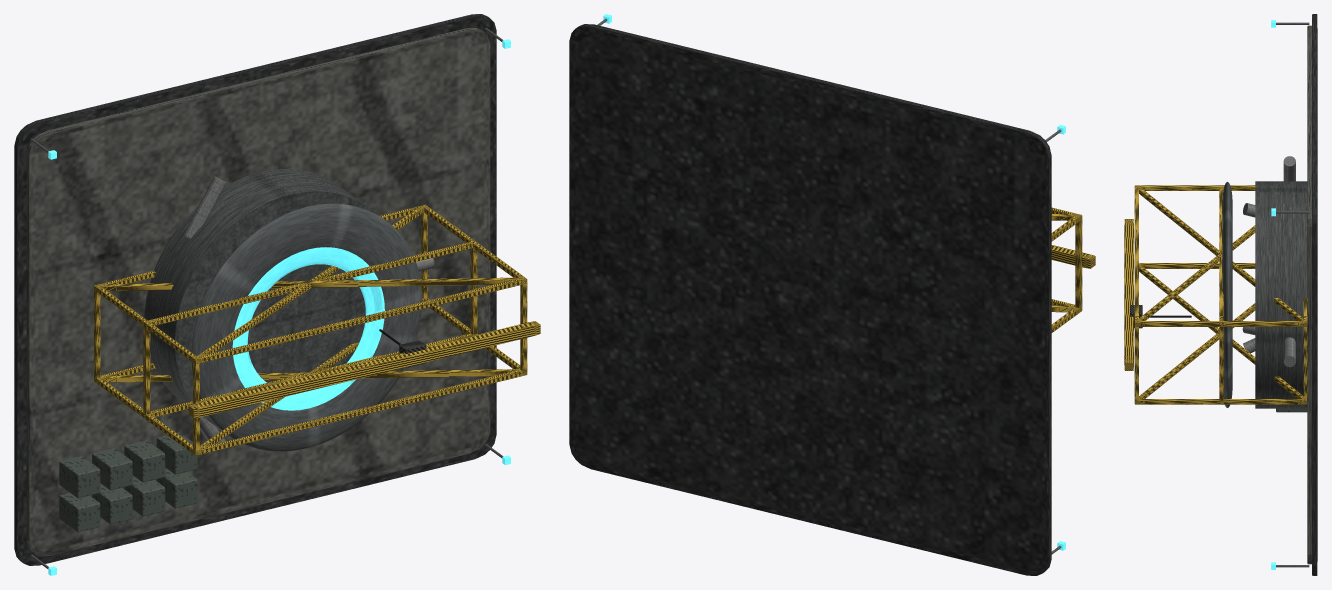
The model's file is b-04-fusion-plant-lod0.glb.
The picture shows the model from 3 angles, left to right: view 1: azimuth 30°, elevation 25°; view 2: azimuth 150°, elevation 25°; view 3: azimuth 270°, elevation 25°; orthographic projection. The views are drawn at different scales.
Visible parts, largest first — view 1: foundation_inner_pad, core_reactor_base, core_reactor_ring_outer, foundation, core_reactor_ring_inner, fusion_bridge_crane_bridge, fusion_bridge_crane_beam_x_2_n, fusion_bridge_crane_beam_x_2_s, fusion_bridge_crane_beam_x_1_n, fusion_bridge_crane_brace_a_1.55, fusion_bridge_crane_brace_a_-1.55, fusion_bridge_crane_brace_b_1.55 (+16 smaller); view 2: foundation, fusion_bridge_crane_beam_y_2_w; view 3: core_reactor_base, foundation, foundation_inner_pad, core_reactor_ring_outer, fusion_bridge_crane_bridge, fusion_bridge_crane_brace_b_1.55, fusion_bridge_crane_brace_b_-1.55, fusion_bridge_crane_column_e_n, fusion_bridge_crane_column_e_s, fusion_bridge_crane_brace_a_1.55, fusion_bridge_crane_brace_a_-1.55, fusion_bridge_crane_beam_x_2_n (+8 smaller).
Part boxes in pixels (x1,y1,x2,y2): foundation_inner_pad: [26, 28, 490, 556]; core_reactor_base: [144, 169, 377, 428]; core_reactor_ring_outer: [191, 203, 422, 451]; foundation: [14, 14, 496, 565]; core_reactor_ring_inner: [232, 247, 384, 410]; fusion_bridge_crane_bridge: [188, 321, 540, 418]; fusion_bridge_crane_beam_x_2_n: [193, 278, 527, 363]; fusion_bridge_crane_beam_x_2_s: [193, 370, 527, 455]; fusion_bridge_crane_beam_x_1_n: [148, 242, 472, 325]; fusion_bridge_crane_brace_a_1.55: [101, 277, 519, 290]; fusion_bridge_crane_brace_a_-1.55: [101, 369, 519, 382]; fusion_bridge_crane_brace_b_1.55: [197, 207, 424, 356]; foundation: [569, 24, 1051, 575]; fusion_bridge_crane_beam_y_2_w: [1075, 214, 1082, 308]; core_reactor_base: [1255, 181, 1307, 408]; foundation: [1312, 14, 1317, 575]; foundation_inner_pad: [1307, 25, 1311, 564]; core_reactor_ring_outer: [1222, 182, 1232, 407]; fusion_bridge_crane_bridge: [1124, 219, 1133, 370]; fusion_bridge_crane_brace_b_1.55: [1139, 187, 1303, 320]; fusion_bridge_crane_brace_b_-1.55: [1139, 265, 1303, 398]; fusion_bridge_crane_column_e_n: [1139, 321, 1303, 326]; fusion_bridge_crane_column_e_s: [1139, 399, 1303, 404]; fusion_bridge_crane_brace_a_1.55: [1139, 225, 1255, 320]; fusion_bridge_crane_brace_a_-1.55: [1139, 303, 1255, 398]; fusion_bridge_crane_beam_x_2_n: [1134, 186, 1138, 326].
Size of what is drawn, in the model's own units: 17 by 15 by 6.97.
10 materials, 10 textured.
